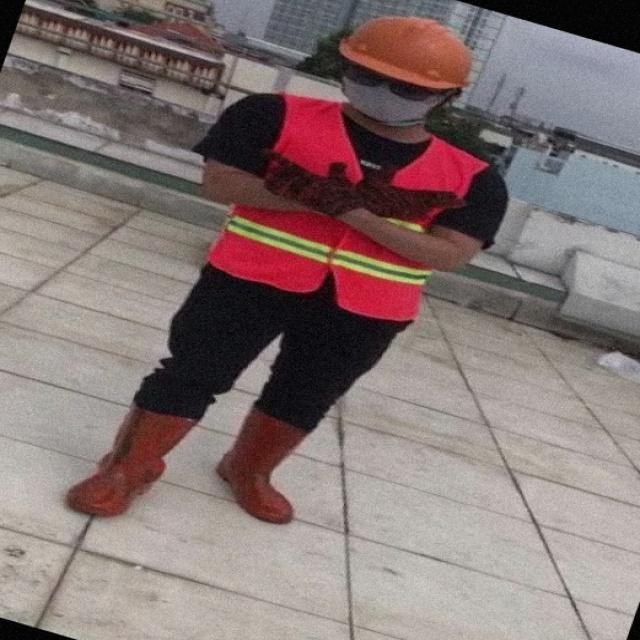helmet: (336, 9, 474, 93)
safety_vest: (187, 85, 504, 331)
